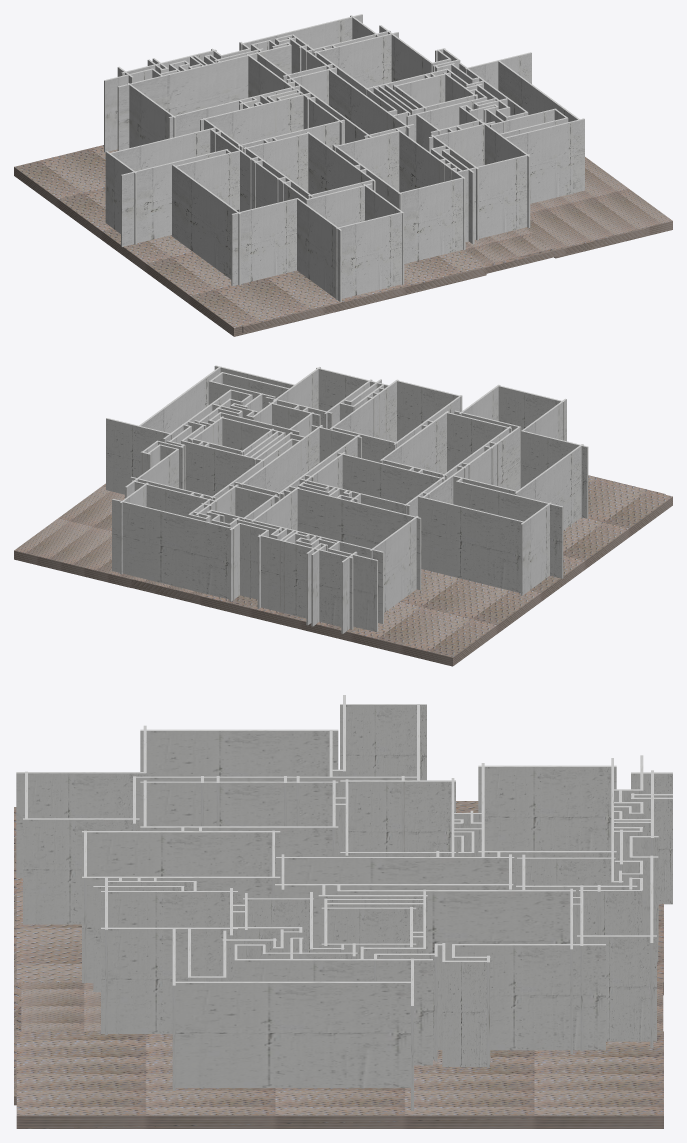
The model's file is Map_CrewQuarters.glb.
The picture shows the model from 3 angles, top to bottom: view 1: azimuth 30°, elevation 25°; view 2: azimuth 150°, elevation 25°; view 3: azimuth 270°, elevation 25°; orthographic projection. The views are drawn at different scales.
Parts seen in each view (by area): view 1: Floor-side-col, Floor-side1-col, Wall.036-col, Wall.009-col, Wall.011-col, Wall.016-col, Wall.001-col, Wall.107-col, Wall.021-col, Wall.013-col, Floor-real-col, Wall.018-col (+37 smaller); view 2: Floor-side-col, Wall.051-col, Wall.012-col, Floor-side1-col, Wall.062-col, Wall.035-col, Wall.013-col, Wall.033-col, Wall.026-col, Wall.011-col, Wall.010-col, Wall.092-col (+42 smaller); view 3: Floor-side1-col, Wall.024-col, Wall.044-col, Wall.037-col, Wall.019-col, Wall.011-col, Wall.003-col, Wall.039-col, Wall.005-col, Wall.031-col, Wall.017-col, Wall.041-col (+30 smaller).
Boxes of the visible parts, box(x1,y1,x2,y2) form: Floor-side-col: box(14, 145, 486, 336); Floor-side1-col: box(525, 157, 672, 258); Wall.036-col: box(117, 44, 291, 150); Wall.009-col: box(231, 198, 297, 286); Wall.011-col: box(172, 164, 240, 285); Wall.016-col: box(335, 212, 401, 299); Wall.001-col: box(398, 177, 464, 263); Wall.107-col: box(505, 118, 584, 203); Wall.021-col: box(457, 154, 529, 241); Wall.013-col: box(121, 149, 227, 246); Floor-real-col: box(242, 228, 646, 332); Wall.018-col: box(297, 198, 341, 302); Floor-side-col: box(200, 476, 672, 666); Wall.051-col: box(112, 499, 234, 600); Wall.012-col: box(418, 496, 524, 592); Floor-side1-col: box(14, 483, 134, 587); Wall.062-col: box(258, 534, 353, 629); Wall.035-col: box(289, 486, 421, 589); Wall.013-col: box(456, 480, 563, 578); Wall.033-col: box(337, 452, 444, 503); Wall.026-col: box(106, 418, 172, 494); Wall.011-col: box(514, 444, 583, 530); Wall.010-col: box(423, 427, 519, 503); Wall.092-col: box(181, 440, 264, 496); Floor-side1-col: box(16, 1031, 663, 1128); Wall.024-col: box(173, 981, 411, 1087); Wall.044-col: box(452, 944, 605, 1050); Wall.037-col: box(478, 765, 616, 850); Wall.019-col: box(101, 927, 237, 1033); Wall.011-col: box(140, 729, 338, 776); Wall.003-col: box(82, 831, 280, 876); Wall.039-col: box(337, 890, 575, 960); Wall.005-col: box(140, 781, 338, 826); Wall.031-col: box(340, 780, 455, 851); Wall.017-col: box(23, 818, 139, 924); Wall.041-col: box(276, 857, 514, 889).
Size of the model in its own units: 103 by 27.64 by 90.72.
2 materials, 2 textured.
